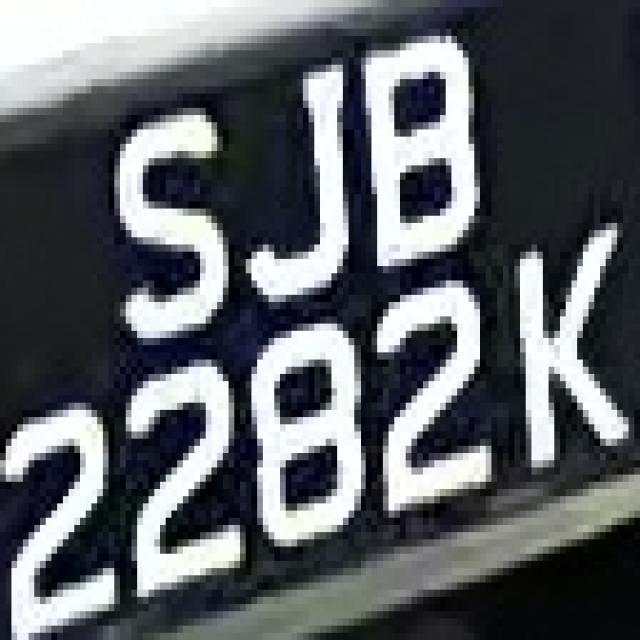2: (114, 338, 240, 626), (360, 280, 491, 554), (0, 4, 1, 8)
8: (240, 302, 383, 582)
B: (343, 14, 486, 280)
J: (223, 29, 354, 316)
K: (486, 223, 623, 510)
S: (91, 93, 240, 338)
